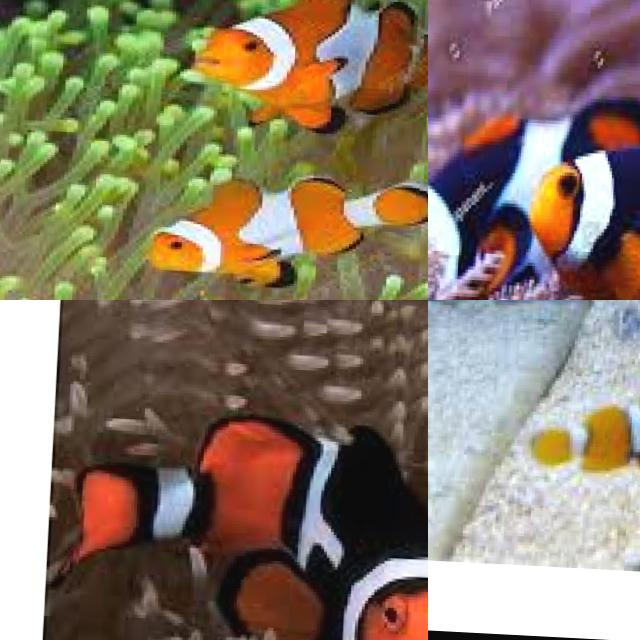Amphiprion-percula: (52, 370, 428, 640), (81, 156, 428, 300), (428, 76, 640, 300), (172, 0, 428, 154), (505, 358, 640, 515), (517, 131, 640, 300)
